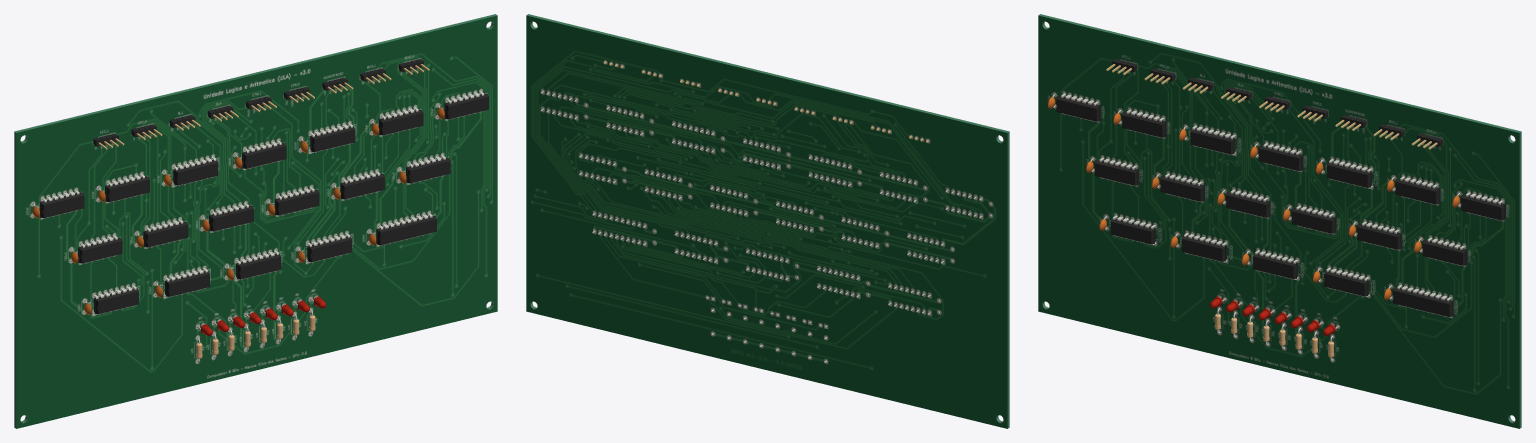
File: alu-unidade-logica-aritmetica.glb
3 views of the same model, side by side, from view 1: azimuth 30°, elevation 25°; view 2: azimuth 150°, elevation 25°; view 3: azimuth 330°, elevation 25° (orthographic).
Visible parts, largest first — view 1: superficie_topo, =>[0:1:1:16], =>[0:1:1:13]_3db492, =>[0:1:1:3], =>[0:1:1:3]_2_748fd4, =>[0:1:1:3]_8_97ff1c, =>[0:1:1:7]_3_514a04, =>[0:1:1:7]_2_fb0bf1, =>[0:1:1:7]_5_434d08, =>[0:1:1:7]_4_121ef8, =>[0:1:1:3]_9_008c92, =>[0:1:1:3]_10_e3c4cc (+8 smaller); view 2: superficie_fundo, =>[0:1:1:16]; view 3: superficie_topo, =>[0:1:1:16], =>[0:1:1:13]_3db492, =>[0:1:1:3]_2_748fd4, =>[0:1:1:3], =>[0:1:1:7]_5_434d08, =>[0:1:1:7]_2_fb0bf1, =>[0:1:1:7]_2f8349, =>[0:1:1:3]_5_de373c, =>[0:1:1:3]_4_1cf647, =>[0:1:1:7]_1_253d21, =>[0:1:1:3]_1_8c8069 (+8 smaller).
Boxes of the visible parts, bbox=[...] form: superficie_topo: bbox=[16, 15, 497, 428]; =>[0:1:1:16]: bbox=[14, 14, 497, 428]; =>[0:1:1:13]_3db492: bbox=[376, 215, 436, 245]; =>[0:1:1:3]: bbox=[274, 189, 319, 215]; =>[0:1:1:3]_2_748fd4: bbox=[378, 109, 423, 135]; =>[0:1:1:3]_8_97ff1c: bbox=[143, 221, 188, 247]; =>[0:1:1:7]_3_514a04: bbox=[236, 253, 281, 279]; =>[0:1:1:7]_2_fb0bf1: bbox=[173, 159, 218, 185]; =>[0:1:1:7]_5_434d08: bbox=[307, 236, 352, 262]; =>[0:1:1:7]_4_121ef8: bbox=[310, 126, 355, 152]; =>[0:1:1:3]_9_008c92: bbox=[39, 192, 84, 218]; =>[0:1:1:3]_10_e3c4cc: bbox=[209, 205, 253, 231]; superficie_fundo: bbox=[526, 15, 1007, 428]; =>[0:1:1:16]: bbox=[526, 14, 1009, 428]; superficie_topo: bbox=[1038, 15, 1519, 428]; =>[0:1:1:16]: bbox=[1038, 14, 1521, 428]; =>[0:1:1:13]_3db492: bbox=[1393, 287, 1453, 316]; =>[0:1:1:3]_2_748fd4: bbox=[1395, 178, 1440, 204]; =>[0:1:1:3]: bbox=[1291, 208, 1336, 233]; =>[0:1:1:7]_5_434d08: bbox=[1324, 270, 1369, 296]; =>[0:1:1:7]_2_fb0bf1: bbox=[1190, 128, 1235, 154]; =>[0:1:1:7]_2f8349: bbox=[1181, 236, 1226, 261]; =>[0:1:1:3]_5_de373c: bbox=[1094, 160, 1139, 185]; =>[0:1:1:3]_4_1cf647: bbox=[1258, 145, 1303, 170]; =>[0:1:1:7]_1_253d21: bbox=[1110, 218, 1155, 244]; =>[0:1:1:3]_1_8c8069: bbox=[1422, 240, 1467, 265].
Size of the model in its own units: 0.2175 by 0.1278 by 0.0118.
Materials: 8 (2 with a texture image).
